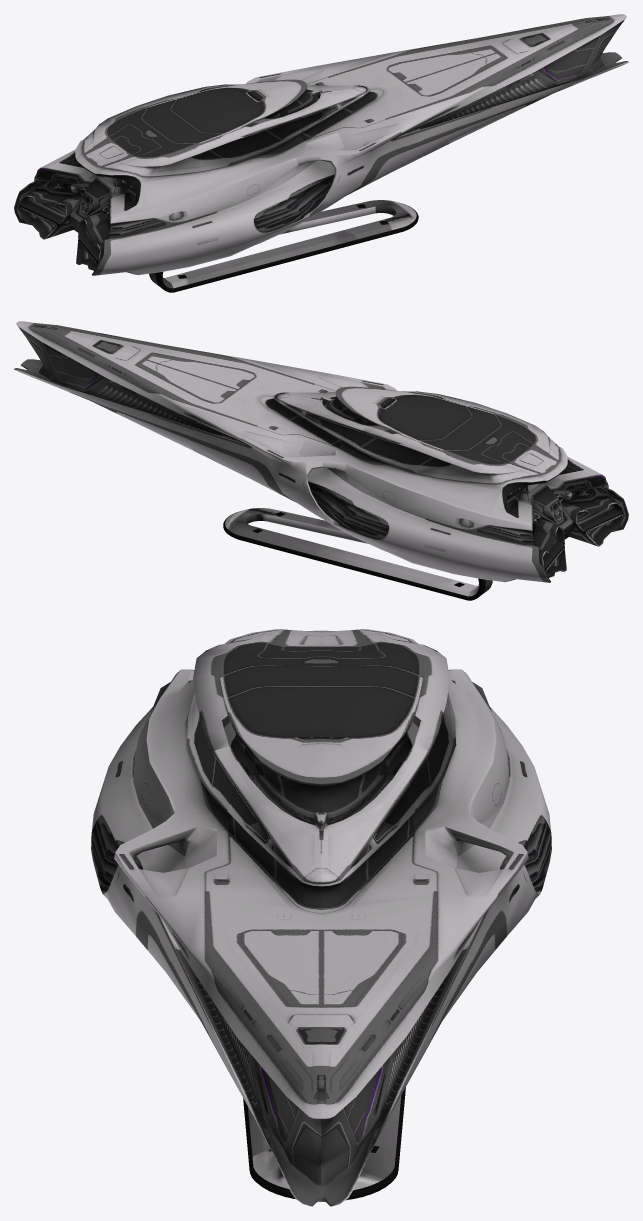
The picture shows the model from 3 angles, top to bottom: view 1: azimuth 30°, elevation 25°; view 2: azimuth 150°, elevation 25°; view 3: azimuth 270°, elevation 25°; orthographic projection. The views are drawn at different scales.
Visible parts, largest first — view 1: 890 jump model_1, Model_base_0; view 2: 890 jump model_1, Model_base_0; view 3: 890 jump model_1, Model_base_0.
Boxes of the visible parts, x1,y1,x2,y2 form: 890 jump model_1: (14,14,628,275); Model_base_0: (149,200,418,292); 890 jump model_1: (14,321,628,582); Model_base_0: (223,508,492,600); 890 jump model_1: (91,629,551,1206); Model_base_0: (243,1087,405,1201).
Bounding box in the file's own units: 11.63 × 3.04 × 4.07.
Materials: 4 (2 with a texture image).
